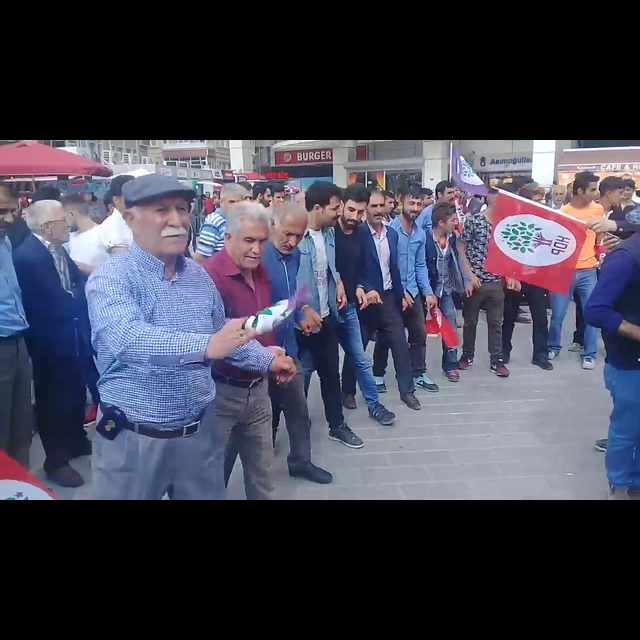HDP: (495, 212, 552, 261)
